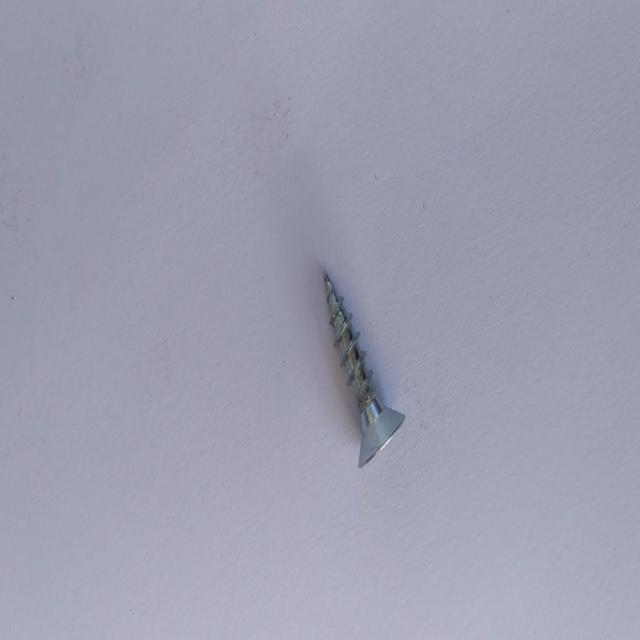Screw: (323, 269, 405, 467)
